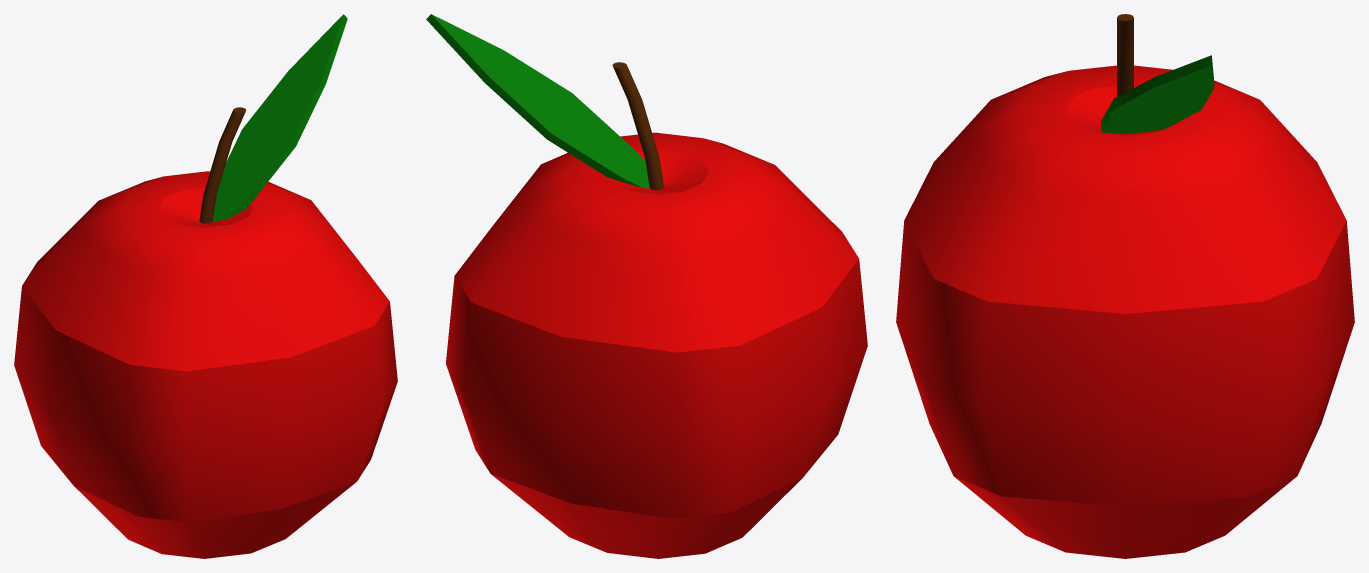
The model's file is Apple.fbx.
3 renders of one model, left to right at view 1: azimuth 30°, elevation 25°; view 2: azimuth 150°, elevation 25°; view 3: azimuth 270°, elevation 25°, orthographic. The views are drawn at different scales.
Visible parts, largest first — view 1: Apple2; view 2: Apple2; view 3: Apple2.
Part boxes in pixels (bbox=[...]): Apple2: bbox=[14, 14, 397, 558]; Apple2: bbox=[426, 14, 867, 558]; Apple2: bbox=[896, 14, 1354, 558].
Bounding box in the file's own units: 0.3078 × 0.3905 × 0.2889.
